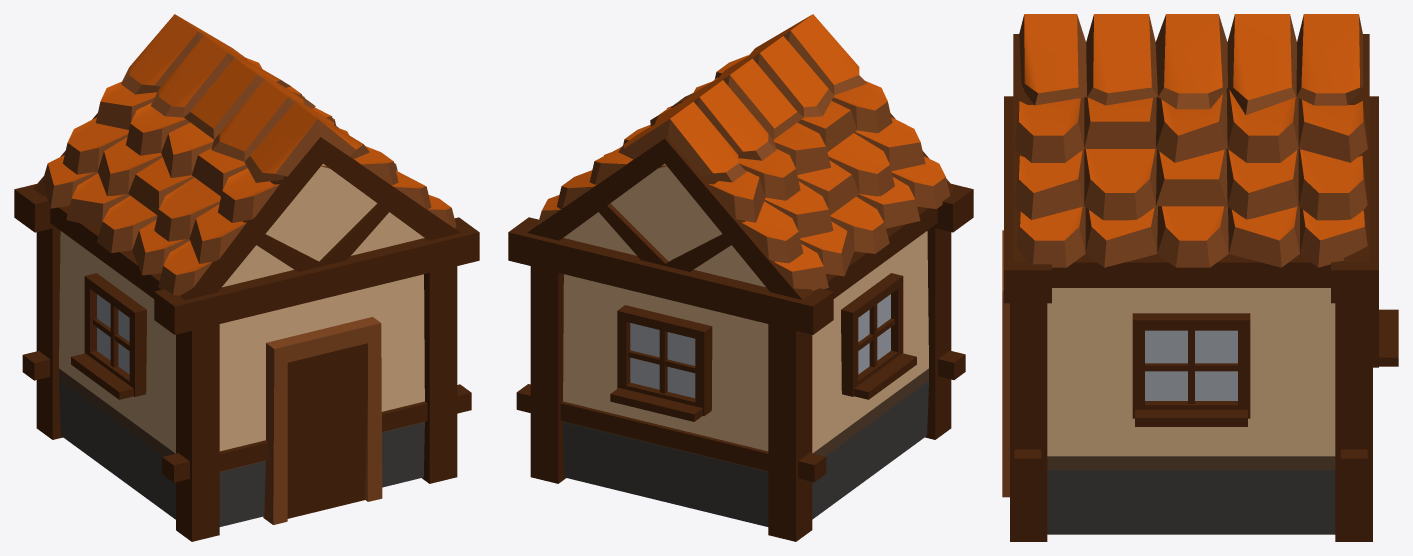
Rendered from SM_House_T1.fbx.
3 renders of one model, left to right at view 1: azimuth 30°, elevation 25°; view 2: azimuth 150°, elevation 25°; view 3: azimuth 270°, elevation 25°, orthographic. The views are drawn at different scales.
Visible parts, largest first — view 1: SM_House_T1; view 2: SM_House_T1; view 3: SM_House_T1.
Part boxes in pixels (x1=…): SM_House_T1: x1=14, y1=14, x2=479, y2=541; SM_House_T1: x1=508, y1=14, x2=973, y2=541; SM_House_T1: x1=1002, y1=14, x2=1398, y2=541.
Size of the model in its own units: 63.62 by 77.08 by 61.24.
